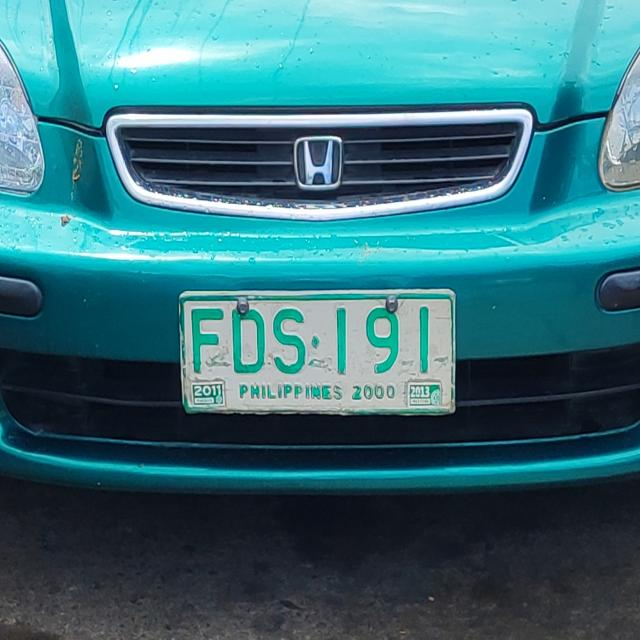plate: (177, 286, 457, 418)
